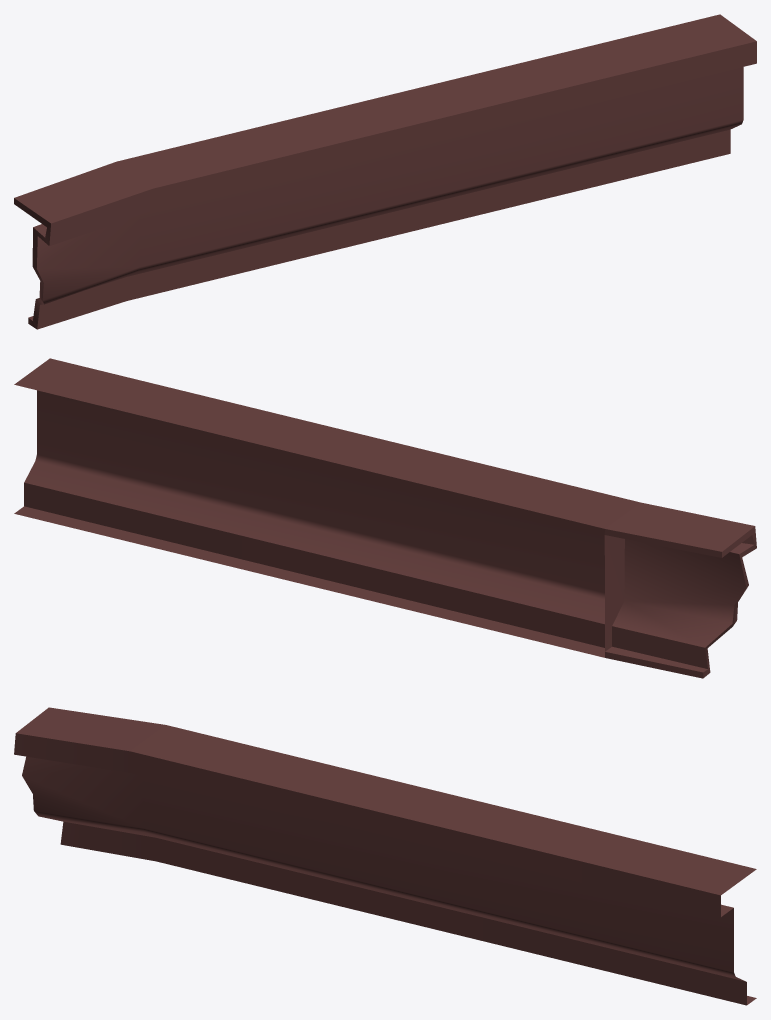
File: DBK_Trim_A_End_Mirror.fbx
3 renders of one model, top to bottom at view 1: azimuth 30°, elevation 25°; view 2: azimuth 150°, elevation 25°; view 3: azimuth 330°, elevation 25°, orthographic. The views are drawn at different scales.
Visible parts, largest first — view 1: DBK_Trim_A_End_Mirror; view 2: DBK_Trim_A_End_Mirror; view 3: DBK_Trim_A_End_Mirror.
Boxes of the visible parts, left/top/right/bottom form: DBK_Trim_A_End_Mirror: left=14, top=14, right=756, bottom=329; DBK_Trim_A_End_Mirror: left=14, top=358, right=756, bottom=678; DBK_Trim_A_End_Mirror: left=14, top=707, right=756, bottom=1005.
Bounding box in the file's own units: 149 × 26.75 × 15.93.
